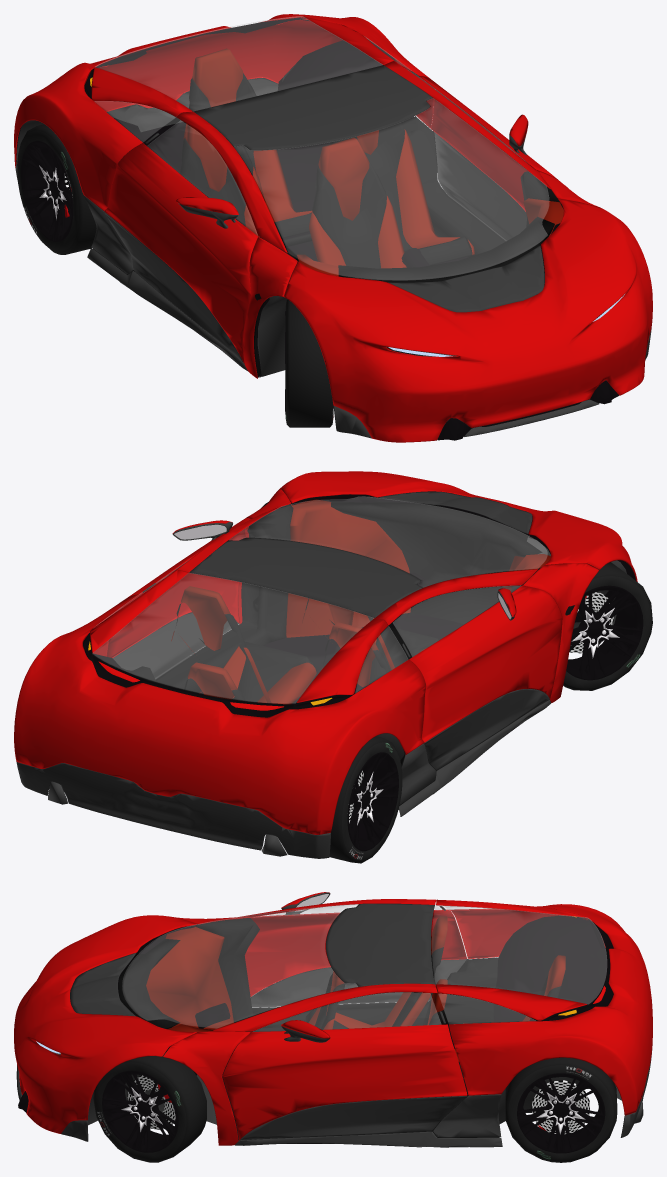
Rendered from car.glb.
3 renders of one model, top to bottom at view 1: azimuth 30°, elevation 25°; view 2: azimuth 150°, elevation 25°; view 3: azimuth 270°, elevation 25°, orthographic. The views are drawn at different scales.
Parts seen in each view (by area): view 1: BodyHood, BodyWindshield, BodyRearPanelsColor1, BodyRearwindow, InteriorSeatsColor1, BodyDoorRColor1, BodyRoofPanel, InteriorSeatsColor2, BodyPillars, InteriorFloor, BodyPanelsColor2, InteriorMid (+15 smaller); view 2: BodyRearPanelsColor1, BodyRearwindow, BodyWindshield, BodyPanelsColor2, BodyDoorRColor1, InteriorDashMid, BodyRoofPanel, BodyHood, InteriorDashSides, BodyPillars, InteriorSeatsColor1, InteriorMid (+15 smaller); view 3: BodyRearPanelsColor1, BodyWindshield, BodyDoorLColor1, BodyHood, BodyRearwindow, BodyRoofPanel, InteriorFloor, InteriorMid, BodyPillars, BodyDoorRColor1, InteriorDashSides, BodyDoorLColor2 (+19 smaller).
Part boxes in pixels (bbox=[...]): BodyHood: bbox=[283, 198, 652, 442]; BodyWindshield: bbox=[234, 98, 549, 280]; BodyRearPanelsColor1: bbox=[14, 14, 434, 210]; BodyRearwindow: bbox=[95, 16, 382, 110]; InteriorSeatsColor1: bbox=[183, 48, 474, 268]; BodyDoorRColor1: bbox=[104, 143, 257, 363]; BodyRoofPanel: bbox=[193, 65, 432, 150]; InteriorSeatsColor2: bbox=[180, 73, 472, 268]; BodyPillars: bbox=[176, 61, 598, 378]; InteriorFloor: bbox=[16, 39, 603, 435]; BodyPanelsColor2: bbox=[15, 78, 651, 438]; InteriorMid: bbox=[93, 116, 559, 375]; BodyRearPanelsColor1: bbox=[14, 569, 425, 834]; BodyRearwindow: bbox=[92, 573, 373, 703]; BodyWindshield: bbox=[229, 496, 547, 587]; BodyPanelsColor2: bbox=[16, 624, 550, 858]; BodyDoorRColor1: bbox=[409, 585, 562, 742]; InteriorDashMid: bbox=[331, 501, 542, 624]; BodyRoofPanel: bbox=[189, 537, 422, 617]; BodyHood: bbox=[278, 471, 637, 581]; InteriorDashSides: bbox=[286, 499, 550, 637]; BodyPillars: bbox=[174, 489, 598, 702]; InteriorSeatsColor1: bbox=[171, 586, 426, 710]; InteriorMid: bbox=[122, 504, 574, 805]; BodyRearPanelsColor1: bbox=[436, 899, 652, 1115]; BodyWindshield: bbox=[122, 904, 357, 1028]; BodyDoorLColor1: bbox=[222, 1024, 467, 1140]; BodyHood: bbox=[14, 915, 196, 1133]; BodyRearwindow: bbox=[432, 905, 606, 1003]; BodyRoofPanel: bbox=[326, 903, 434, 986]; InteriorFloor: bbox=[19, 915, 613, 1143]; InteriorMid: bbox=[194, 918, 498, 1143]; BodyPillars: bbox=[163, 899, 437, 1145]; BodyDoorRColor1: bbox=[236, 909, 467, 996]; InteriorDashSides: bbox=[146, 926, 233, 1032]; BodyDoorLColor2: bbox=[240, 1096, 467, 1140].
Bounding box in the file's own units: 2.54 × 1.15 × 4.36.
19 materials, 4 textured.
